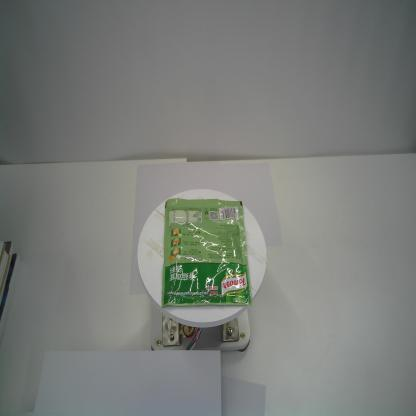Seasoner: (160, 197, 252, 309)
